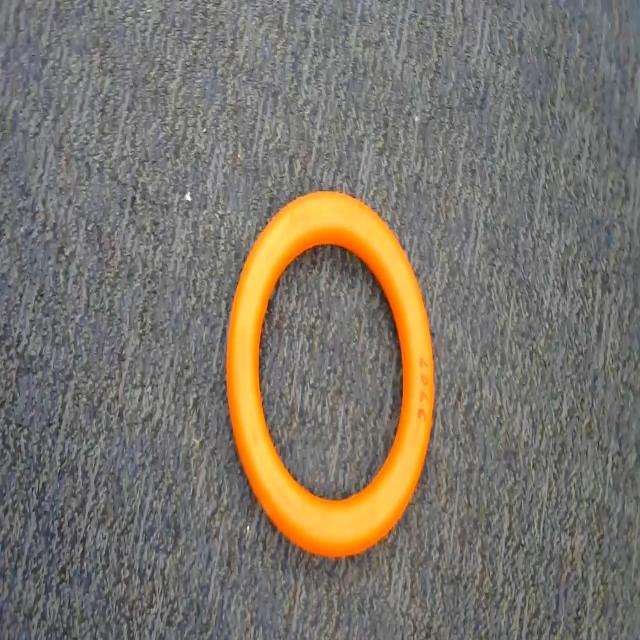note: (199, 179, 470, 596)
